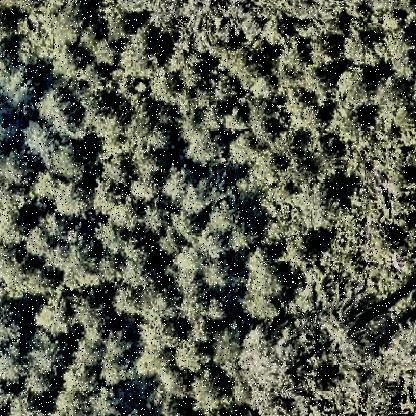tree-top: (170, 38, 240, 81), (32, 1, 90, 50), (238, 247, 294, 297), (165, 36, 211, 87), (94, 331, 136, 383), (118, 31, 164, 77), (32, 86, 80, 130), (169, 220, 209, 271), (33, 291, 77, 337), (24, 338, 70, 382), (61, 354, 106, 398), (49, 178, 93, 222), (182, 126, 227, 166), (69, 291, 109, 336), (100, 1, 138, 48), (338, 63, 378, 107), (327, 101, 371, 141), (172, 333, 212, 377), (141, 313, 185, 353), (193, 367, 231, 413), (3, 61, 38, 109), (109, 283, 150, 323), (89, 104, 129, 145), (48, 140, 90, 179), (216, 42, 258, 81), (208, 327, 245, 371), (50, 39, 92, 77), (108, 195, 148, 233), (375, 77, 415, 115), (198, 222, 242, 256), (20, 117, 58, 156), (339, 28, 380, 64), (1, 196, 33, 242), (244, 150, 282, 188), (242, 99, 278, 138), (99, 151, 135, 189), (120, 249, 156, 287), (137, 287, 175, 323), (3, 148, 37, 188), (86, 385, 129, 416), (179, 181, 215, 217), (162, 164, 195, 203), (228, 131, 263, 167), (24, 367, 60, 401), (197, 227, 229, 265), (21, 226, 55, 261), (88, 36, 124, 69), (277, 38, 309, 74), (383, 33, 416, 67), (171, 208, 203, 242), (206, 201, 238, 234), (308, 35, 339, 69), (1, 302, 24, 346), (141, 201, 171, 234), (5, 388, 40, 416), (226, 221, 256, 253), (175, 247, 206, 277), (1, 344, 23, 384), (2, 9, 16, 47), (1, 1, 30, 13)
